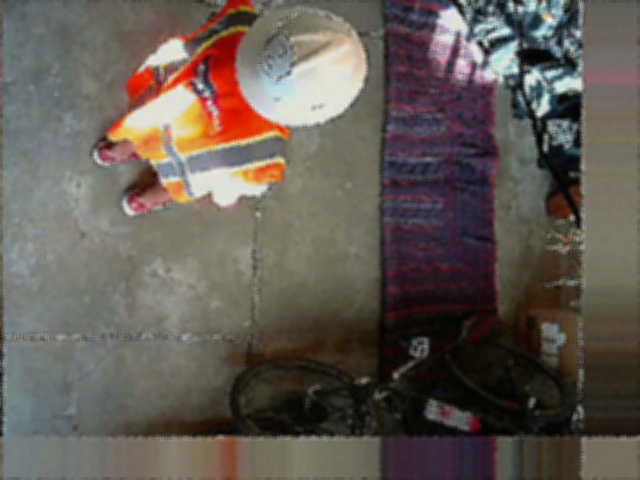two: (259, 31, 293, 79)
